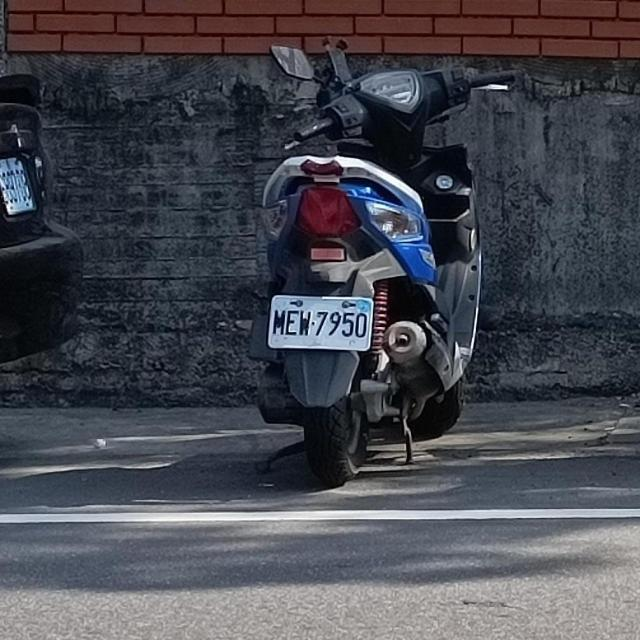W: (264, 291, 382, 353)
